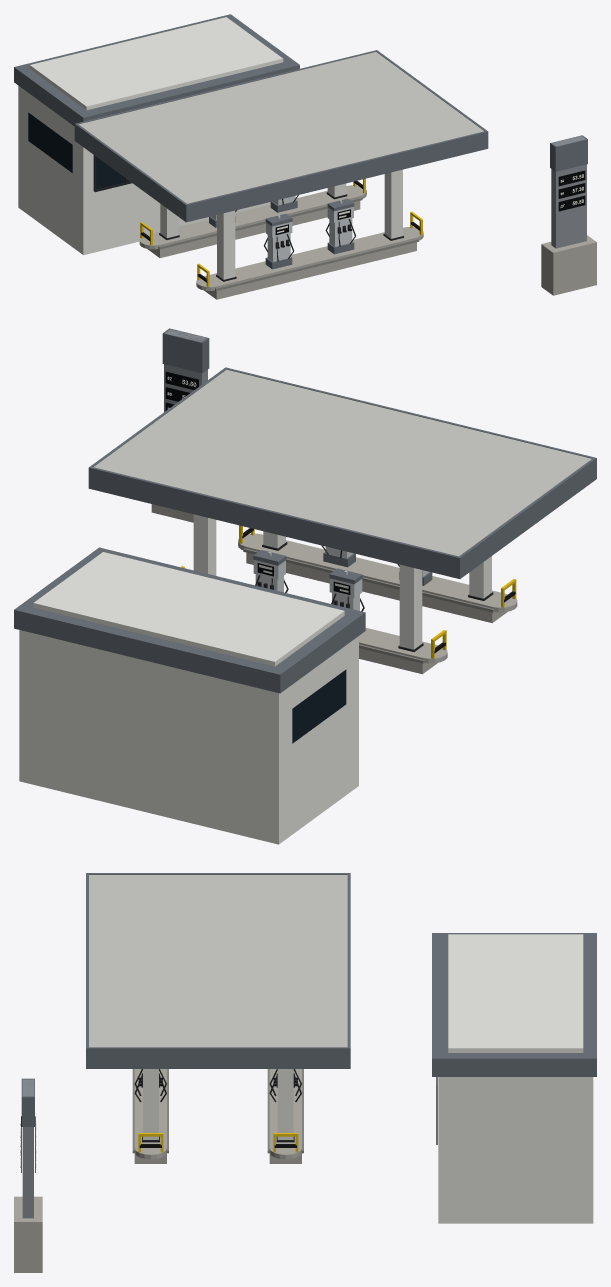
File: azs_generic.glb
The picture shows the model from 3 angles, top to bottom: view 1: azimuth 30°, elevation 25°; view 2: azimuth 150°, elevation 25°; view 3: azimuth 270°, elevation 25°; orthographic projection. The views are drawn at different scales.
Parts seen in each view (by area): view 1: azs_generic_canopy, azs_generic_shop_wall, azs_generic_concrete, azs_generic_brand, azs_generic_shop_band, azs_generic_clad, azs_generic_stela, azs_generic_shop_glass, azs_generic_pump, azs_generic_curb, azs_generic_pump2, azs_generic_stela2 (+3 smaller); view 2: azs_generic_shop_wall, azs_generic_canopy, azs_generic_brand, azs_generic_shop_band, azs_generic_concrete, azs_generic_clad, azs_generic_shop_glass, azs_generic_stela2, azs_generic_pump, azs_generic_pump2, azs_generic_curb, azs_generic_stela (+1 smaller); view 3: azs_generic_canopy, azs_generic_shop_wall, azs_generic_shop_band, azs_generic_brand, azs_generic_concrete, azs_generic_clad, azs_generic_stela, azs_generic_curb, azs_generic_metal.
Boxes of the visible parts, bbox=[...] form: azs_generic_canopy: bbox=[79, 52, 483, 203]; azs_generic_shop_wall: bbox=[18, 17, 283, 255]; azs_generic_concrete: bbox=[139, 185, 596, 299]; azs_generic_brand: bbox=[74, 50, 488, 222]; azs_generic_shop_band: bbox=[14, 14, 299, 126]; azs_generic_clad: bbox=[160, 169, 402, 279]; azs_generic_stela: bbox=[551, 136, 586, 248]; azs_generic_shop_glass: bbox=[28, 112, 129, 189]; azs_generic_pump: bbox=[211, 196, 353, 261]; azs_generic_curb: bbox=[158, 197, 419, 291]; azs_generic_pump2: bbox=[209, 198, 354, 269]; azs_generic_stela2: bbox=[550, 135, 587, 171]; azs_generic_shop_wall: bbox=[19, 552, 358, 844]; azs_generic_canopy: bbox=[93, 369, 591, 556]; azs_generic_brand: bbox=[88, 367, 596, 578]; azs_generic_shop_band: bbox=[14, 547, 365, 693]; azs_generic_concrete: bbox=[151, 504, 517, 674]; azs_generic_clad: bbox=[193, 514, 491, 649]; azs_generic_shop_glass: bbox=[292, 669, 346, 743]; azs_generic_stela2: bbox=[162, 328, 209, 373]; azs_generic_pump: bbox=[253, 546, 429, 610]; azs_generic_pump2: bbox=[253, 550, 432, 585]; azs_generic_curb: bbox=[243, 548, 494, 663]; azs_generic_stela: bbox=[164, 329, 207, 411]; azs_generic_canopy: bbox=[89, 875, 347, 1047]; azs_generic_shop_wall: bbox=[438, 934, 593, 1223]; azs_generic_shop_band: bbox=[432, 933, 596, 1076]; azs_generic_brand: bbox=[86, 873, 350, 1068]; azs_generic_concrete: bbox=[14, 1069, 301, 1272]; azs_generic_clad: bbox=[143, 1069, 293, 1139]; azs_generic_stela: bbox=[22, 1079, 33, 1218]; azs_generic_curb: bbox=[132, 1069, 303, 1153]; azs_generic_metal: bbox=[134, 1069, 437, 1144].
Size of the model in its own units: 20.9 by 8.9 by 23.32.
